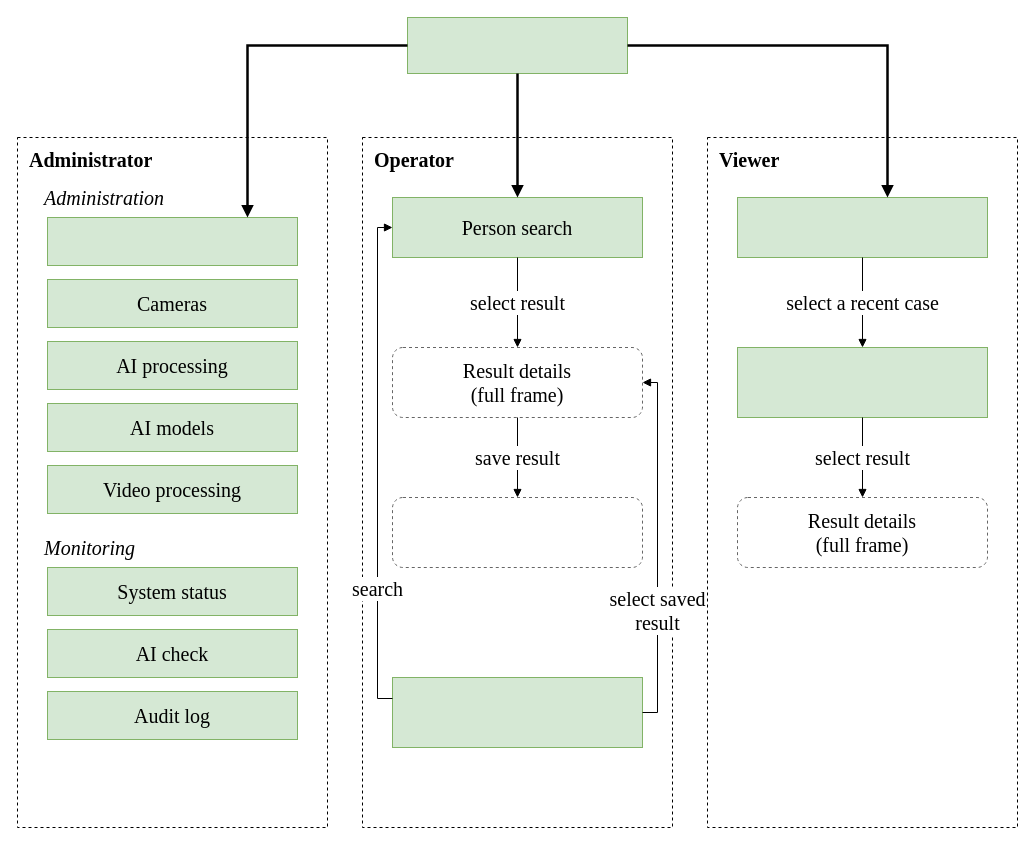
Image size: 1035x845. Some labels were removed from this diagram. Here are the shapes that lost their labels. From the top down, the centre of each, then its label:
point (517, 45): Login
point (172, 241): Accounts
point (862, 227): Overview
point (862, 382): Case files (list + details)
point (517, 532): Create new case / Add to existing case
point (517, 712): My cases (list + details)
